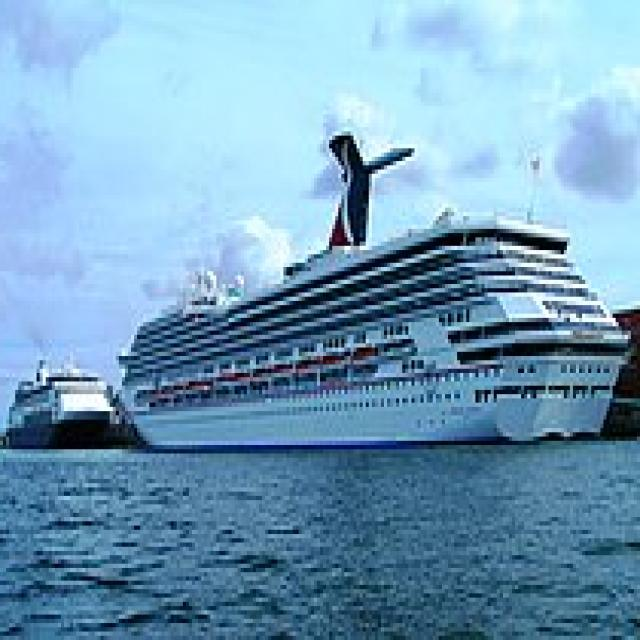Cruise: (116, 123, 634, 449), (9, 352, 122, 441)
